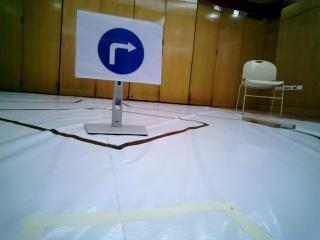right: (84, 11, 156, 79)
